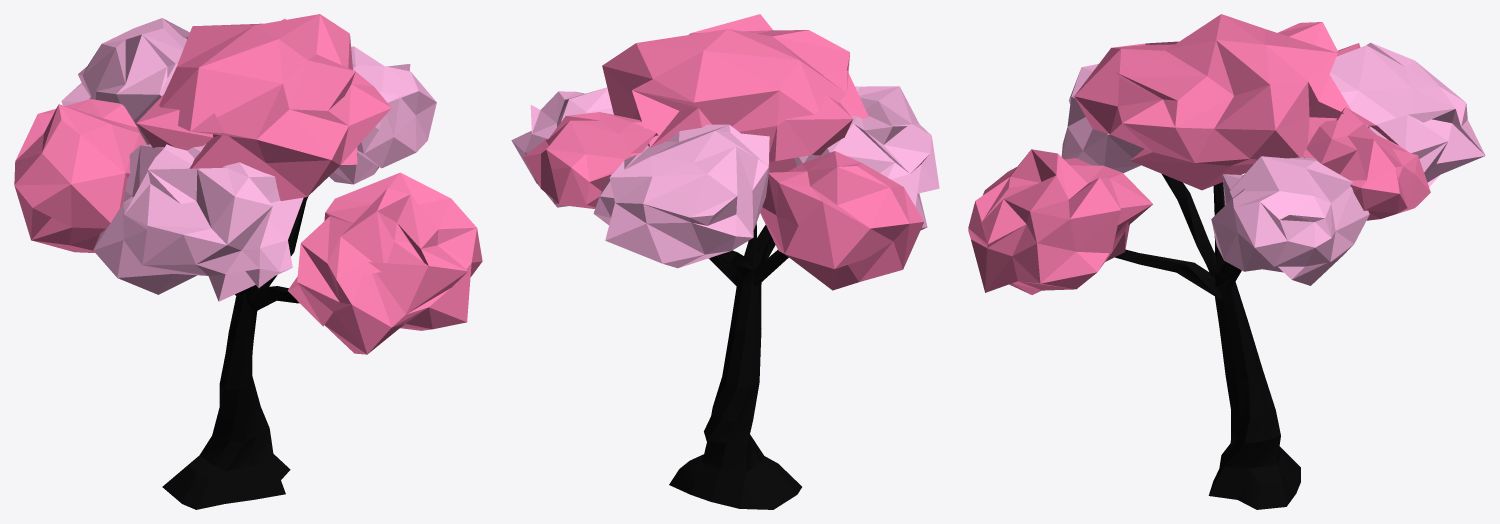
Rendered from Sakura04.fbx.
3 views of the same model, side by side, from view 1: azimuth 30°, elevation 25°; view 2: azimuth 150°, elevation 25°; view 3: azimuth 270°, elevation 25° (orthographic). The views are drawn at different scales.
Parts seen in each view (by area): view 1: Crown, Trunk; view 2: Crown, Trunk; view 3: Crown, Trunk.
Part boxes in pixels (left/top/right/bottom): Crown: left=14, top=14, right=482, bottom=354; Trunk: left=162, top=196, right=308, bottom=509; Crown: left=511, top=14, right=939, bottom=290; Trunk: left=669, top=223, right=801, bottom=509; Crown: left=968, top=14, right=1485, bottom=294; Trunk: left=1115, top=174, right=1300, bottom=509.
Size of the model in its own units: 260 by 279 by 288.
